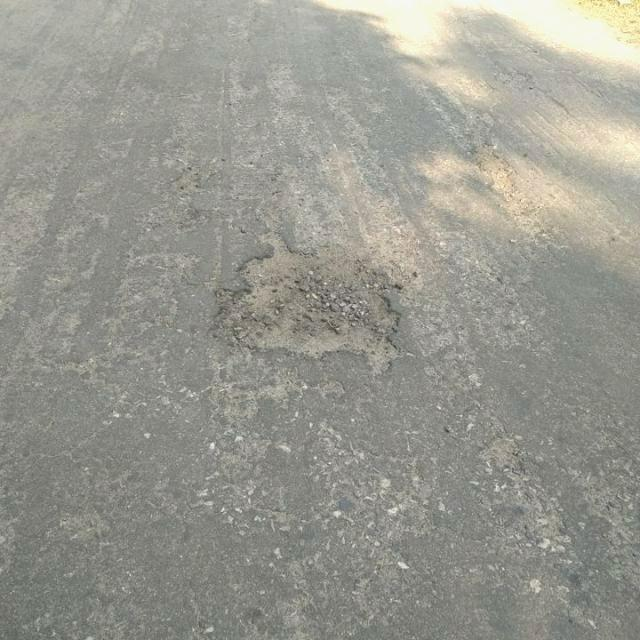Pothole: (202, 233, 412, 373), (471, 432, 524, 474)
